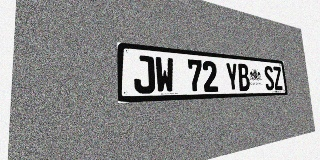2: (202, 60, 218, 92)
7: (186, 59, 204, 92)
B: (237, 63, 250, 91)
J: (133, 55, 155, 94)
S: (263, 65, 275, 90)
W: (155, 56, 175, 93)
Y: (225, 62, 239, 91)
Z: (272, 66, 283, 90)
